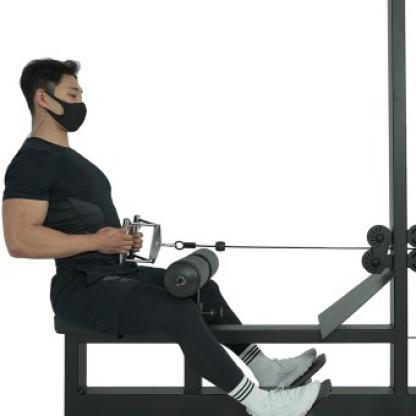Seated Cable Rows: (8, 1, 416, 416)
